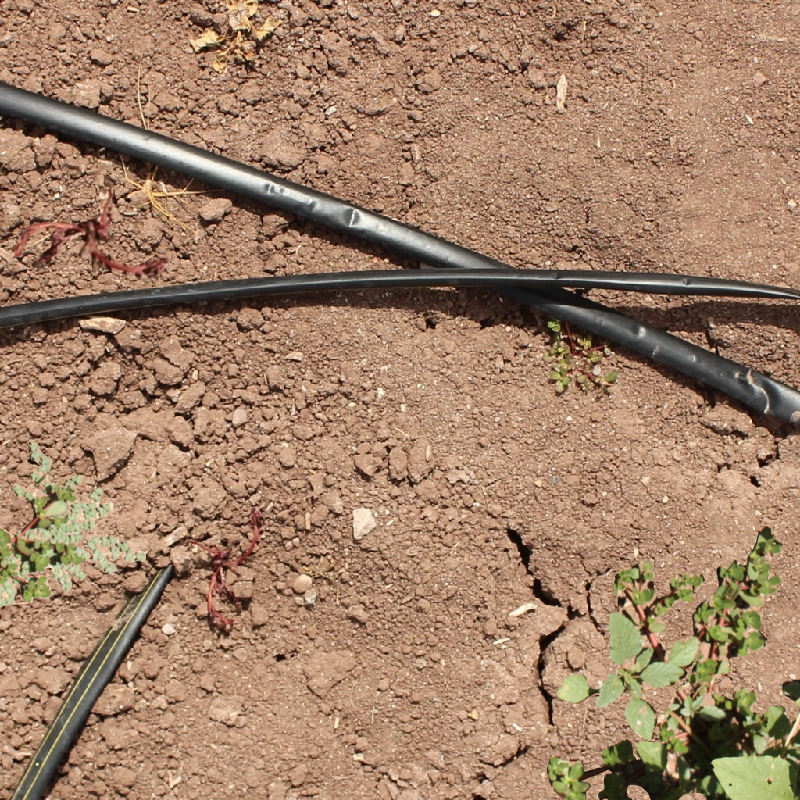weed: (547, 526, 800, 800), (1, 439, 146, 611), (1, 166, 165, 292), (178, 507, 279, 640), (535, 310, 622, 391), (190, 1, 279, 72)
